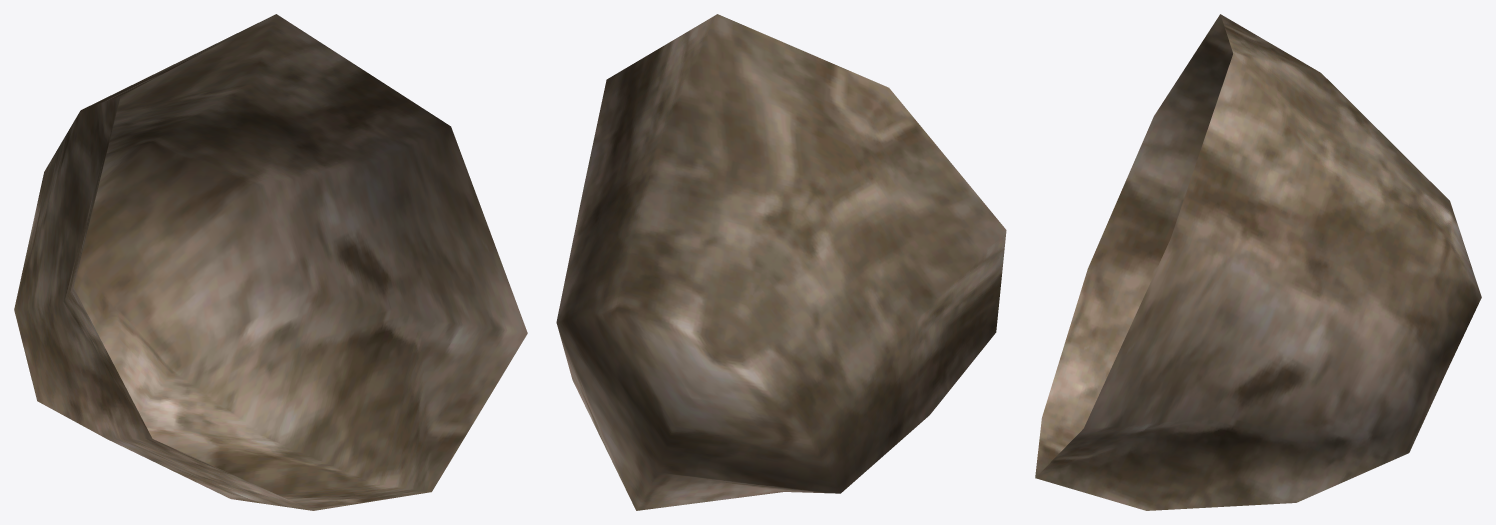
Rendered from OVERHILL_A_01_ROCK42.fbx.
3 renders of one model, left to right at view 1: azimuth 30°, elevation 25°; view 2: azimuth 150°, elevation 25°; view 3: azimuth 270°, elevation 25°, orthographic. The views are drawn at different scales.
Visible parts, largest first — view 1: OVERHILL_A_01_ROCK42; view 2: OVERHILL_A_01_ROCK42; view 3: OVERHILL_A_01_ROCK42.
Part boxes in pixels (x1=…): OVERHILL_A_01_ROCK42: x1=14, y1=14, x2=527, y2=510; OVERHILL_A_01_ROCK42: x1=556, y1=14, x2=1006, y2=510; OVERHILL_A_01_ROCK42: x1=1035, y1=14, x2=1481, y2=510.
Bounding box in the file's own units: 17897 × 18620 × 17232.
Materials: 1 (1 with a texture image).
